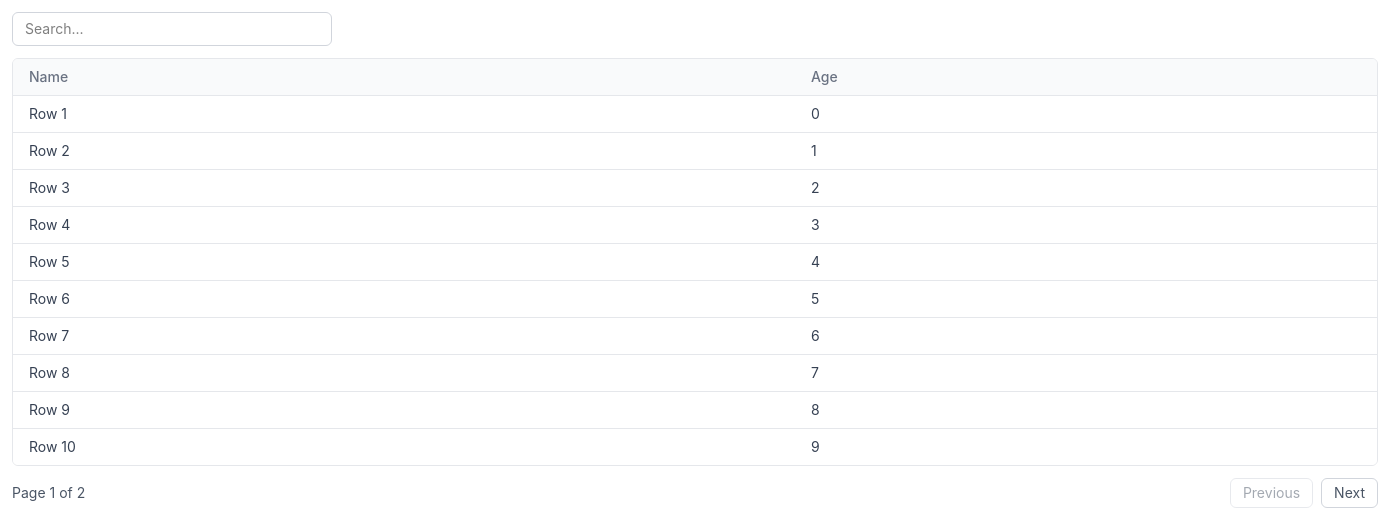
it: DataTable › paginates when there are more rows than the page size, and Previous/Next work
This screenshot has width=1390, height=525.
Expected: the text "Page 1 of 2" is shown, [12, 483, 85, 503]
Expected: the text "Row 1" is shown, [13, 96, 795, 132]
Step 1. Click the button "Next" → (1350,493), box [1321, 478, 1378, 508]
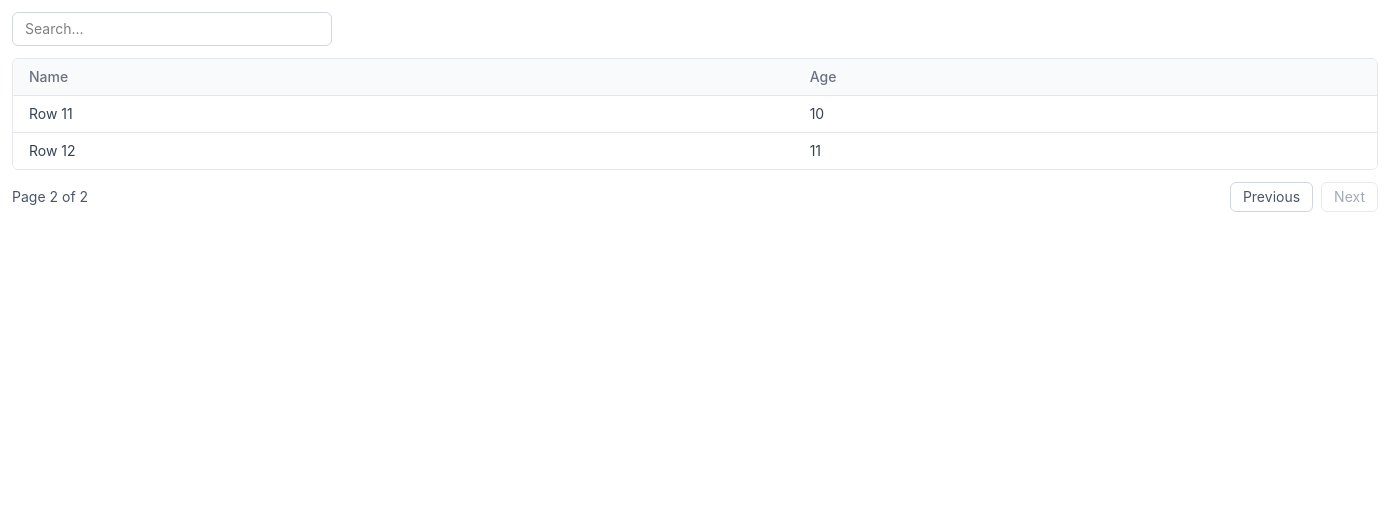
Expected: the text "Page 2 of 2" is shown, [12, 187, 88, 207]
Expected: the text "Row 11" is shown, [13, 96, 794, 132]
Expected: the button "Next" is disabled, [1321, 182, 1378, 212]
Step 2. Click the button "Previous" → (1272,197), box [1230, 182, 1313, 212]
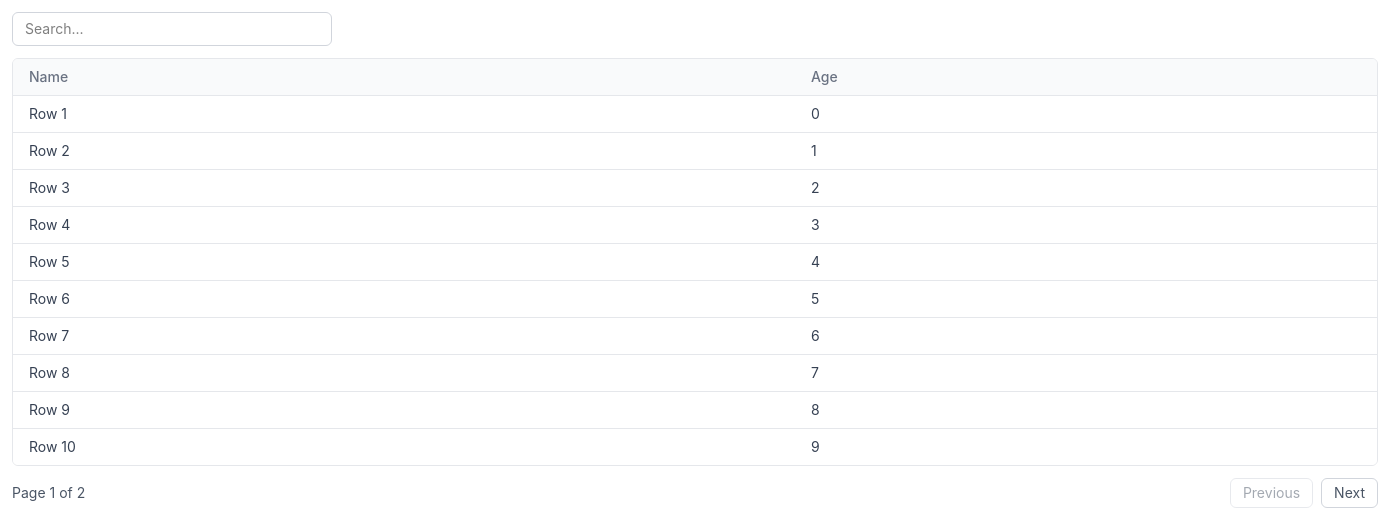
Expected: the text "Page 1 of 2" is shown, [12, 483, 85, 503]
